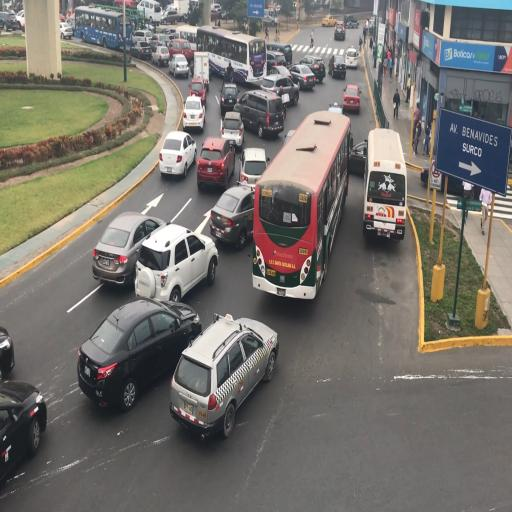auto: (78, 296, 200, 410), (178, 320, 279, 444), (134, 223, 216, 303), (91, 210, 167, 287), (0, 381, 47, 495), (208, 182, 256, 248), (233, 89, 284, 139), (197, 136, 236, 189), (158, 130, 197, 178), (260, 71, 297, 109), (239, 146, 268, 187), (220, 110, 245, 147), (182, 94, 206, 132), (294, 56, 324, 84), (167, 37, 193, 69), (0, 322, 15, 376), (348, 137, 368, 177), (219, 81, 240, 116), (187, 76, 207, 108), (136, 0, 162, 24), (342, 84, 360, 115), (151, 44, 170, 68), (330, 53, 347, 79), (0, 9, 17, 31), (148, 32, 168, 50), (344, 47, 358, 71), (59, 21, 74, 40), (158, 27, 177, 42), (162, 11, 181, 25), (334, 21, 346, 41), (161, 4, 178, 18), (321, 14, 338, 27), (344, 45, 358, 60), (343, 15, 359, 28), (265, 12, 279, 26)
bus: (193, 50, 210, 92)
camion: (219, 69, 232, 101)
moto: (252, 110, 347, 294), (364, 128, 408, 242), (200, 26, 266, 86), (75, 4, 132, 50)
